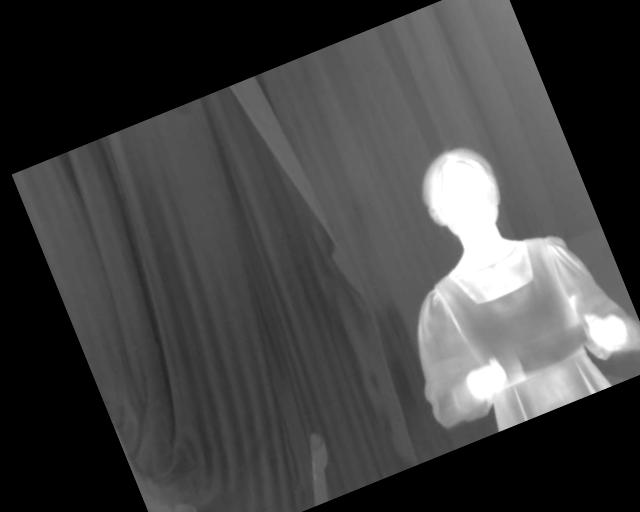face: (406, 135, 515, 252)
